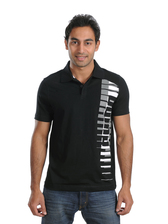clothoes: (32, 58, 135, 193)
